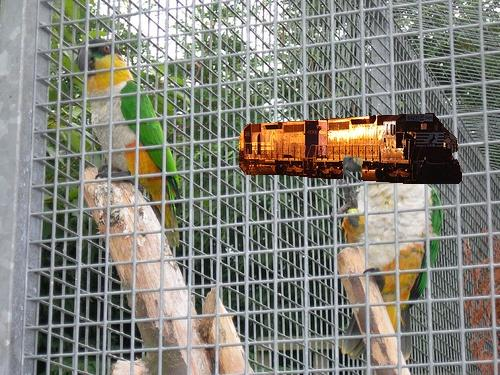tampered: (240, 114, 462, 184)
